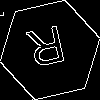R: (25, 25, 70, 77)
